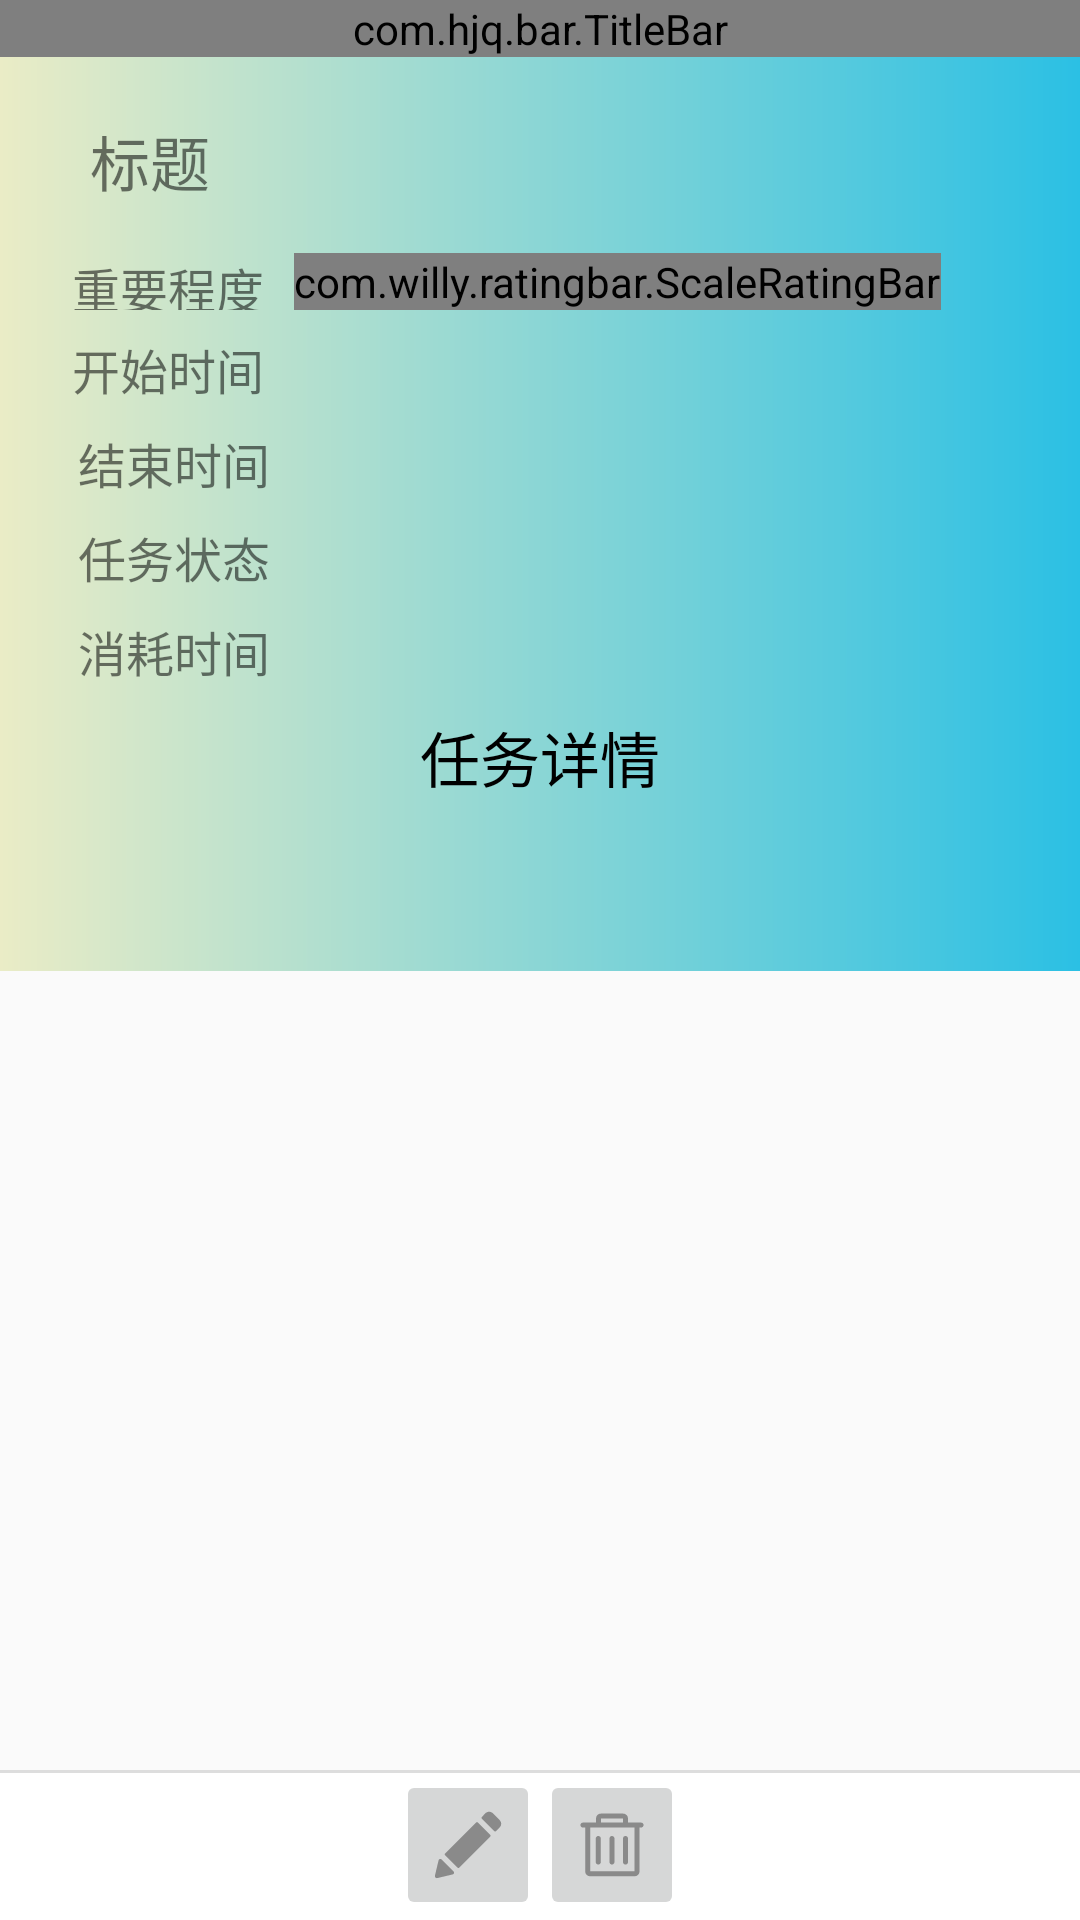

Icons on this 1080*1920 Android screen, each with the point to tap as (x,y):
del: (612,1845)
edit: (468,1845)
